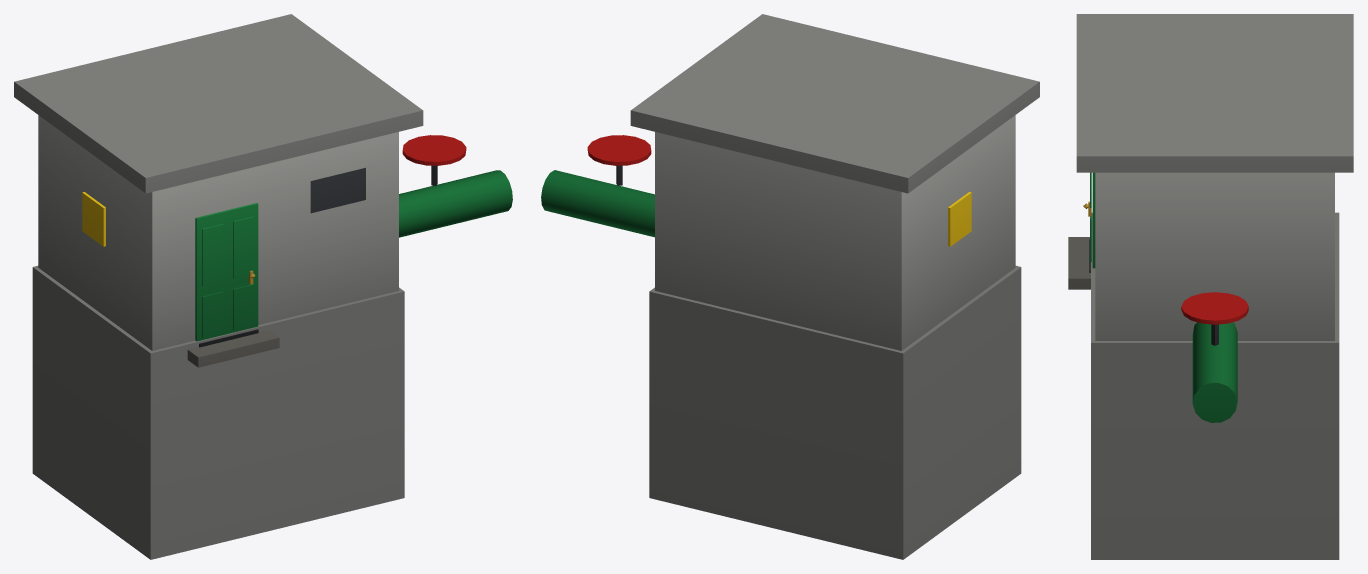
Rendered from Reservoir_Hut.fbx.
The picture shows the model from 3 angles, left to right: view 1: azimuth 30°, elevation 25°; view 2: azimuth 150°, elevation 25°; view 3: azimuth 270°, elevation 25°; orthographic projection. The views are drawn at different scales.
Visible parts, largest first — view 1: Reservoir_Hut_LOD0; view 2: Reservoir_Hut_LOD0; view 3: Reservoir_Hut_LOD0.
Boxes of the visible parts, x1,y1,x2,y2 form: Reservoir_Hut_LOD0: (14,14,512,559); Reservoir_Hut_LOD0: (541,14,1039,559); Reservoir_Hut_LOD0: (1068,14,1353,559).
Size of what is drawn, in the model's own units: 6.85 by 6.04 by 3.81.
1 material, 1 textured.
